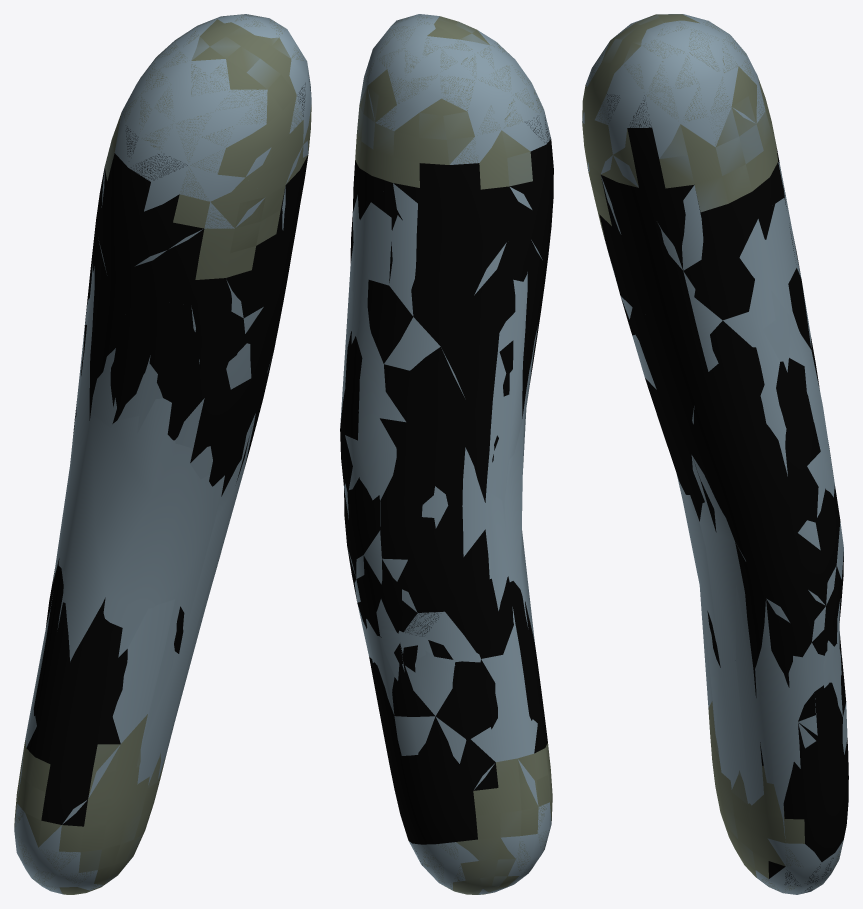
The picture shows the model from 3 angles, left to right: view 1: azimuth 30°, elevation 25°; view 2: azimuth 150°, elevation 25°; view 3: azimuth 270°, elevation 25°; orthographic projection. The views are drawn at different scales.
Parts seen in each view (by area): view 1: CC L13 high, CC L13, CC L13 low; view 2: CC L13 high, CC L13, CC L13 low; view 3: CC L13 high, CC L13, CC L13 low.
Boxes of the visible parts, bbox=[...] form: CC L13 high: bbox=[14, 14, 311, 894]; CC L13: bbox=[14, 14, 311, 894]; CC L13 low: bbox=[53, 398, 226, 749]; CC L13 high: bbox=[340, 15, 553, 894]; CC L13: bbox=[340, 14, 551, 894]; CC L13 low: bbox=[351, 264, 534, 680]; CC L13 high: bbox=[582, 14, 848, 893]; CC L13: bbox=[582, 14, 847, 894]; CC L13 low: bbox=[676, 290, 841, 783].
Bounding box in the file's own units: 1.64 × 5.8 × 1.53.
